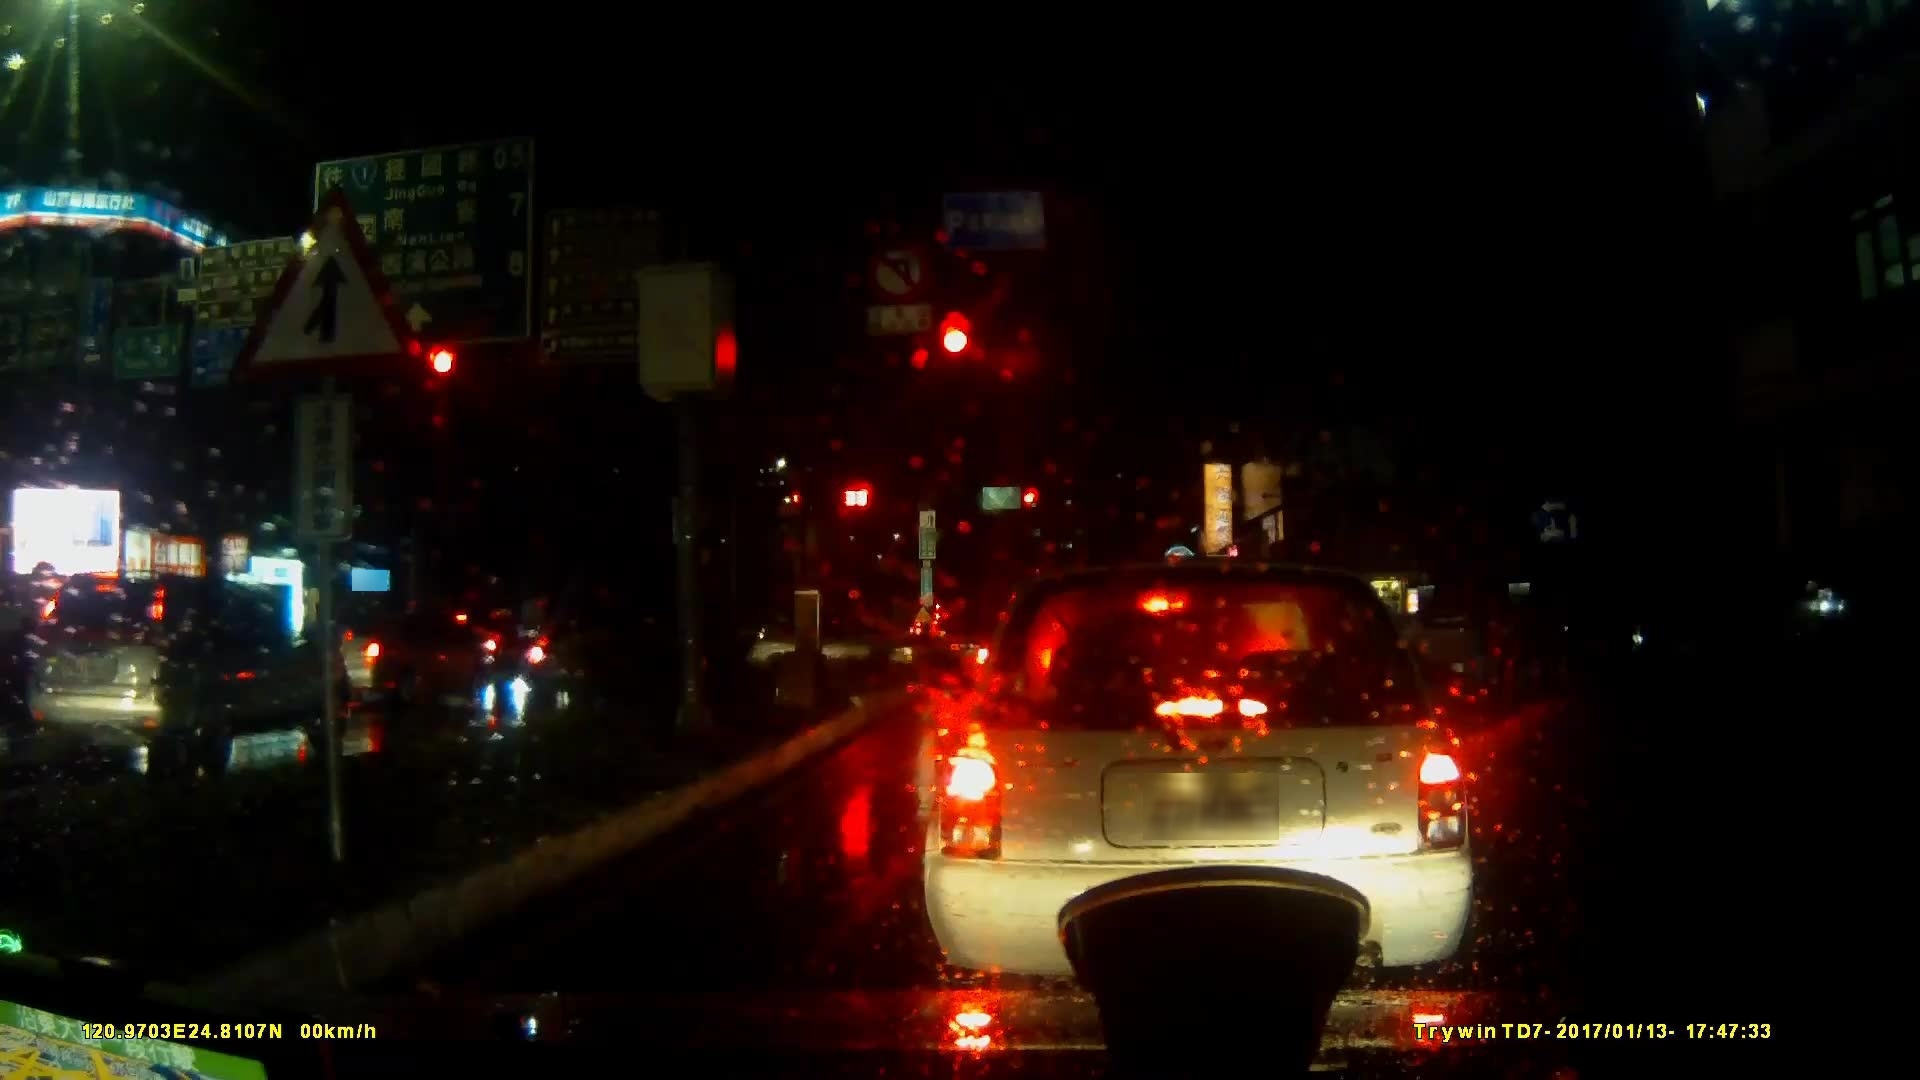vehicle: (913, 551, 1480, 982), (22, 566, 353, 777), (1425, 603, 1596, 715), (316, 616, 491, 705), (1382, 607, 1553, 673), (746, 621, 915, 682), (299, 618, 442, 687), (0, 632, 47, 771)
